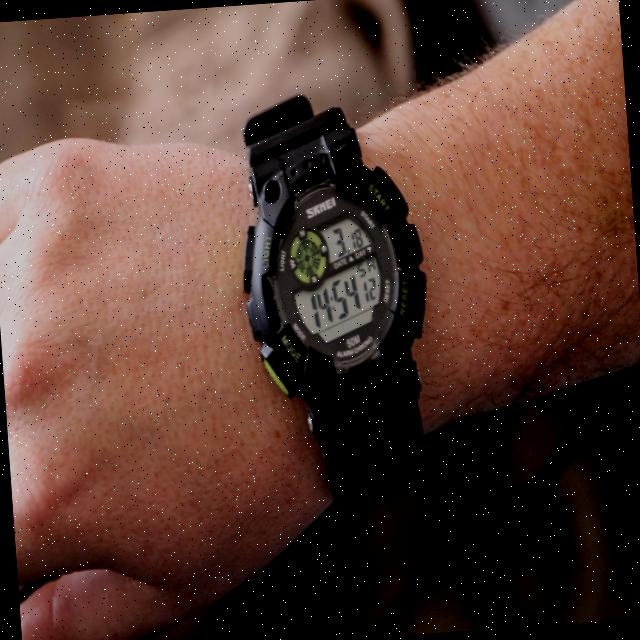Wrist watch: (230, 84, 441, 512)
